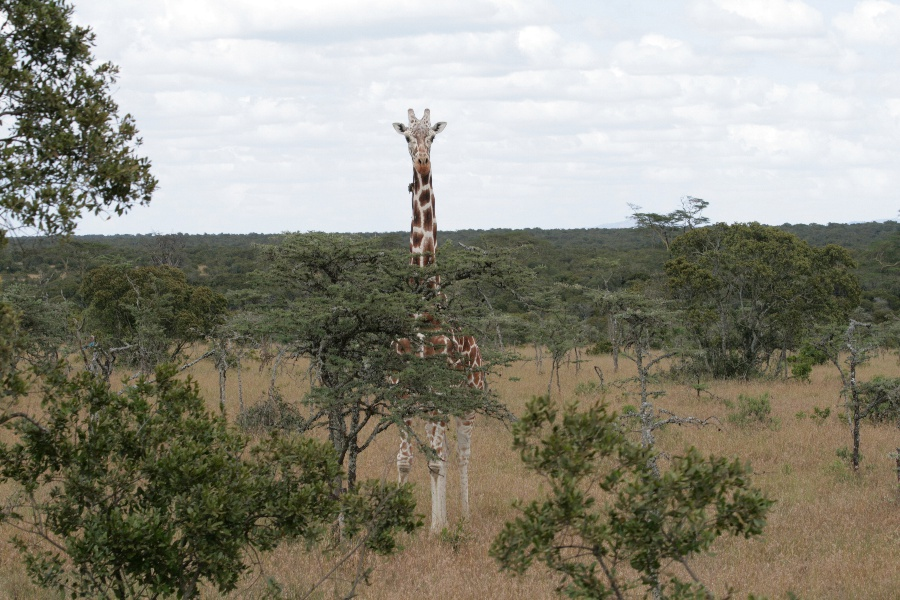giraffe: (365, 102, 493, 542)
